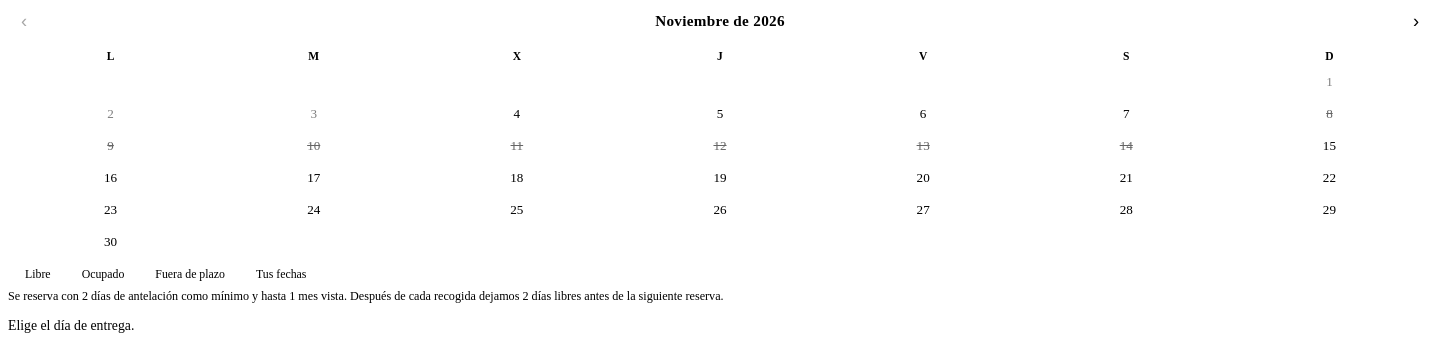
CalendarioReserva — elegir las fechas › eligiendo la recogida, un día anterior a la entrega la cambia, y la misma entrega la deshace
The image size is (1440, 350).
Click the button named "viernes, 6 de noviembre de 2026" at (923,114), box [823, 99, 1024, 129]
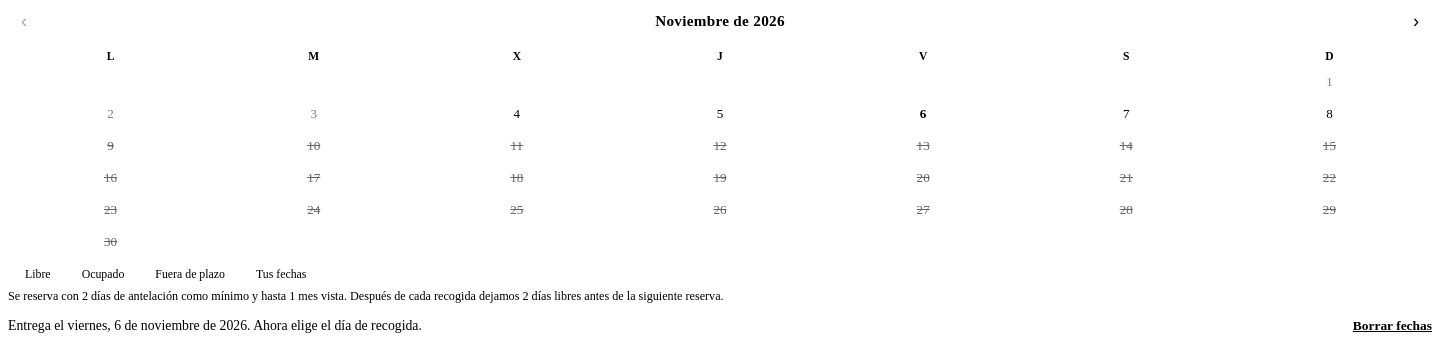
Click the button named "miércoles, 4 de noviembre de 2026" at (517,114), box [416, 99, 617, 129]
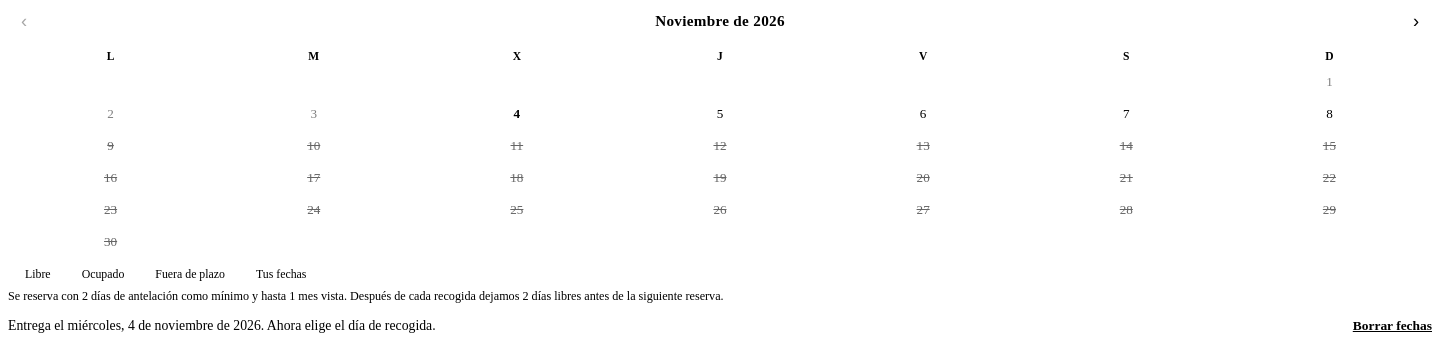
Now the button named "miércoles, 4 de noviembre de 2026, entrega" is shown
Click the button named "miércoles, 4 de noviembre de 2026, entrega" at (517,114), box [416, 99, 617, 129]
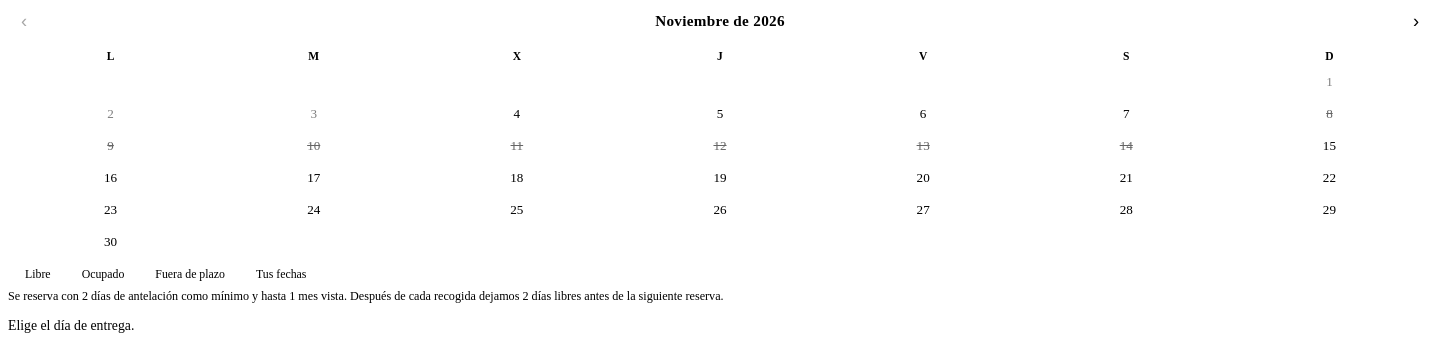
Now the text with class "cal-reserva-instrucciones" reads "Elige el día de entrega.", box [8, 318, 134, 333]
